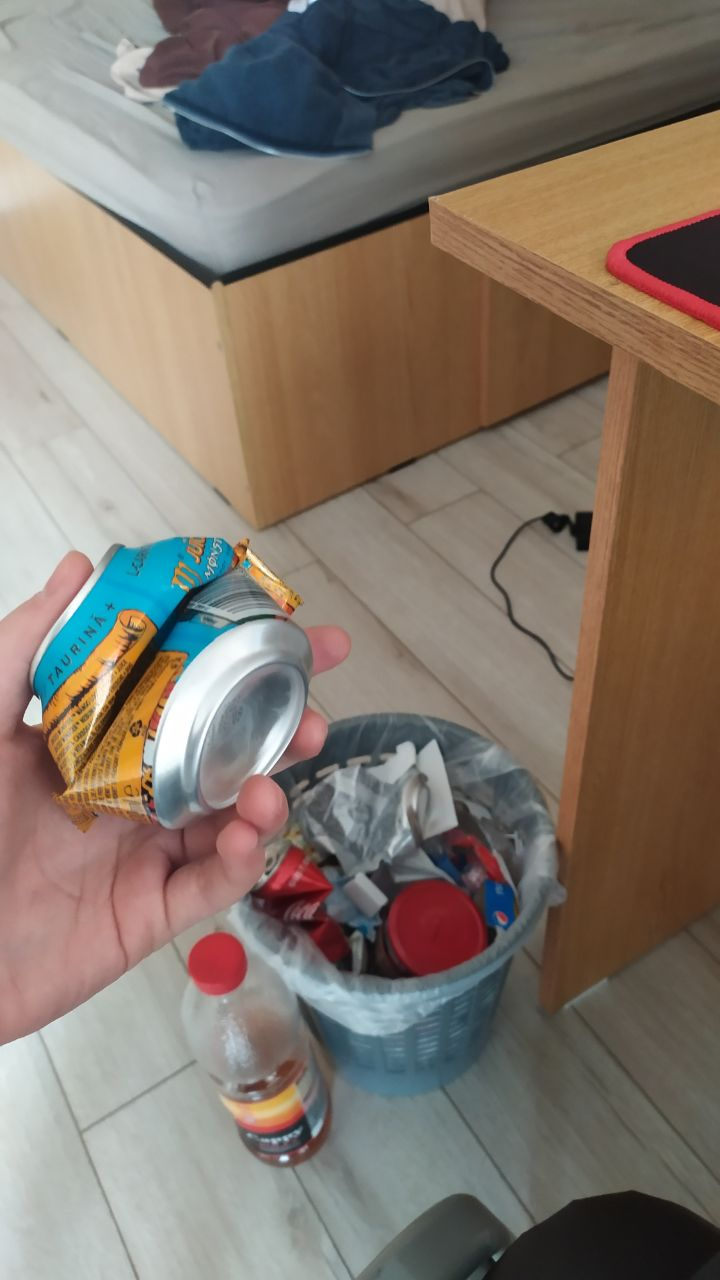Can: (29, 525, 312, 828), (249, 844, 364, 961), (315, 760, 443, 863)
